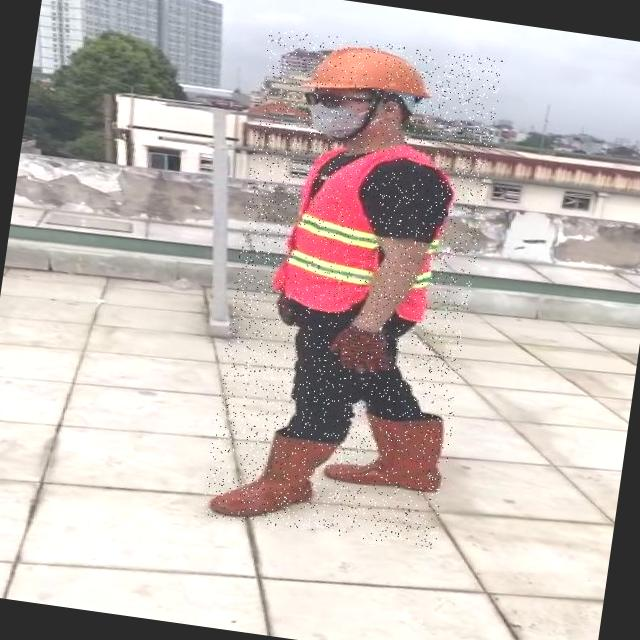boots: (206, 425, 337, 530), (333, 406, 452, 496)
helmet: (300, 38, 439, 108)
vest: (274, 134, 452, 321)
